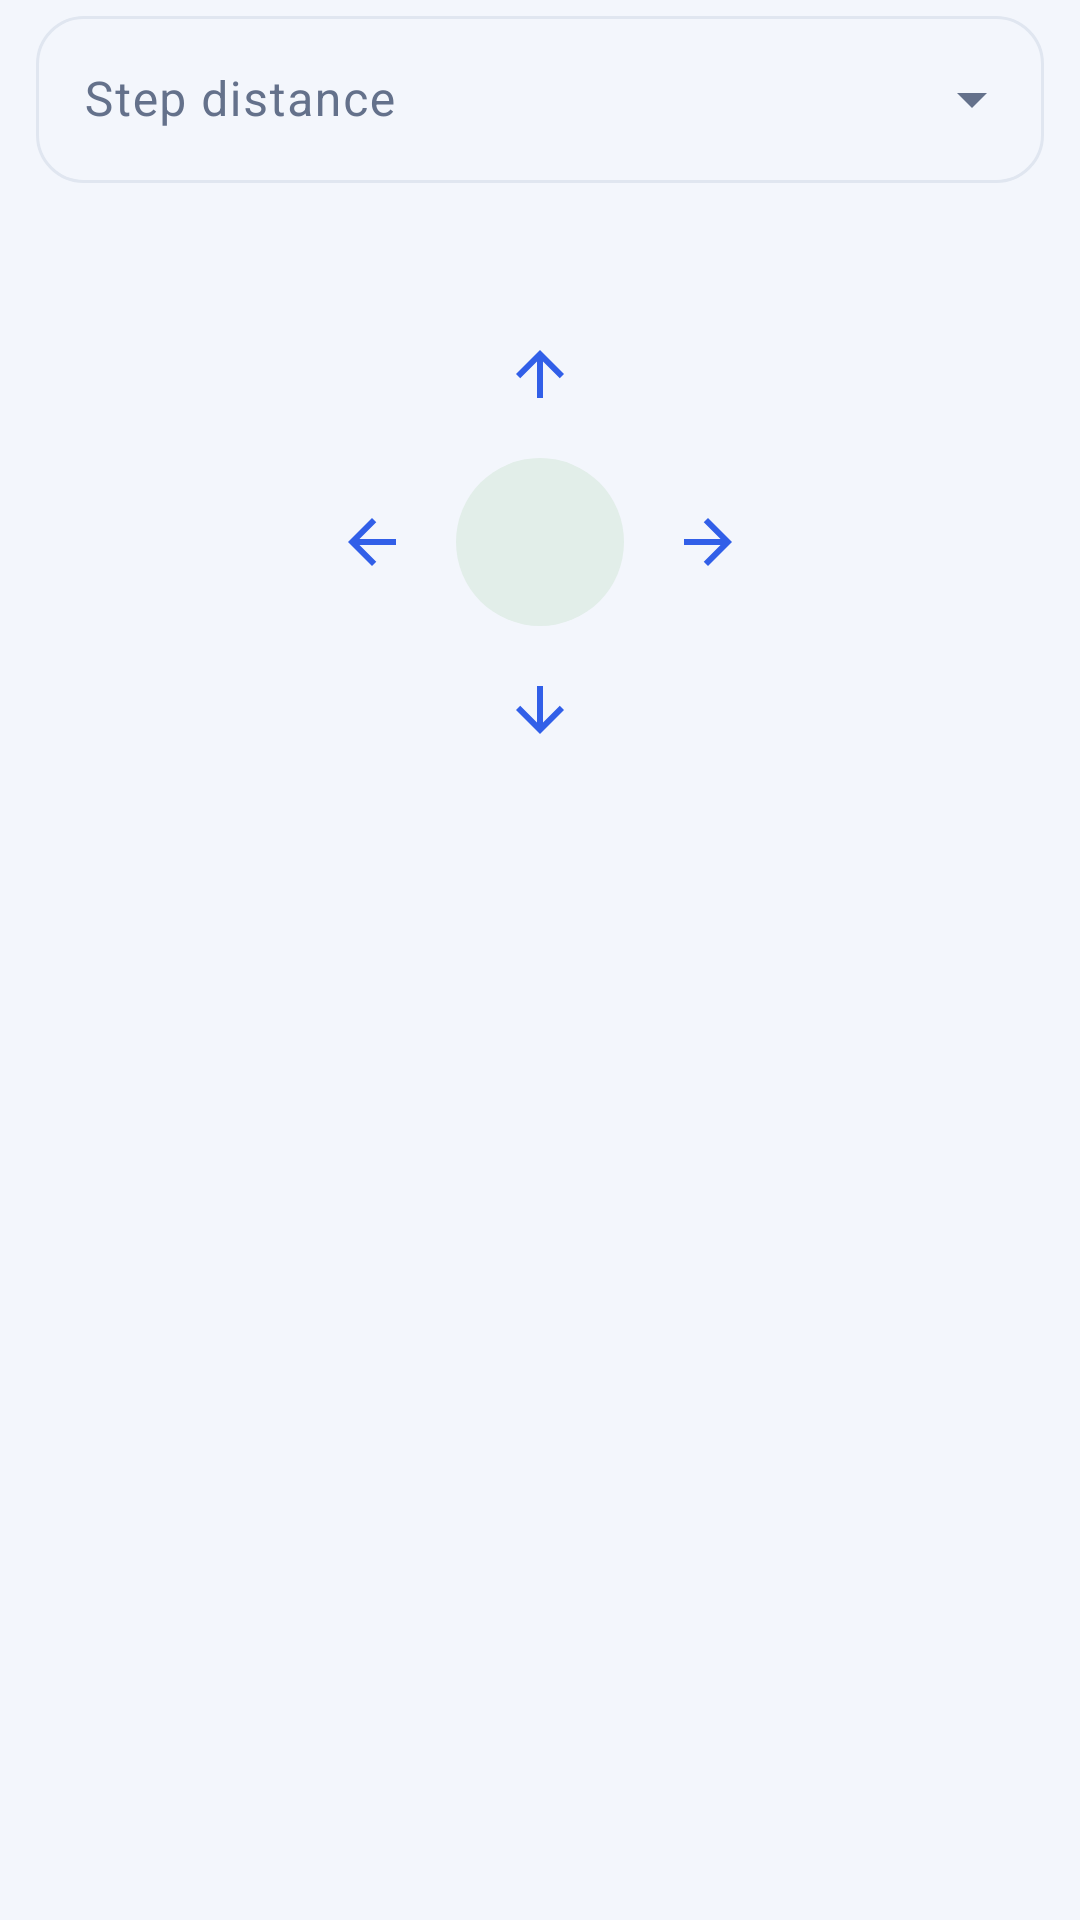

Icons on this 1080 x 1920 Android screen, each with the point to tap as (x=x, y=y):
Move north: (x=540, y=374)
